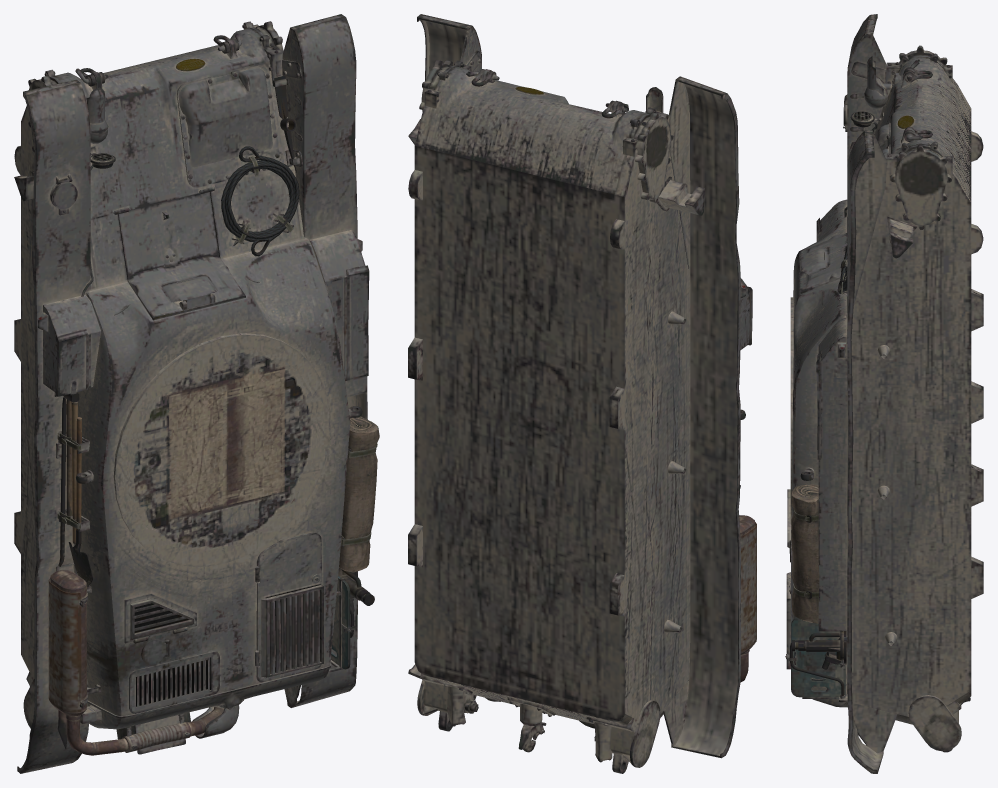
The model's file is Hull.glb.
3 views of the same model, side by side, from view 1: azimuth 30°, elevation 25°; view 2: azimuth 150°, elevation 25°; view 3: azimuth 270°, elevation 25° (orthographic). The views are drawn at different scales.
Parts seen in each view (by area): view 1: set_0_group_0; view 2: set_0_group_0; view 3: set_0_group_0.
Boxes of the visible parts, x1,y1,x2,y2 form: set_0_group_0: [14, 14, 379, 773]; set_0_group_0: [408, 14, 756, 773]; set_0_group_0: [785, 14, 983, 773].
Bounding box in the file's own units: 1.95 × 3.9 × 1.12.
1 material, 1 textured.
